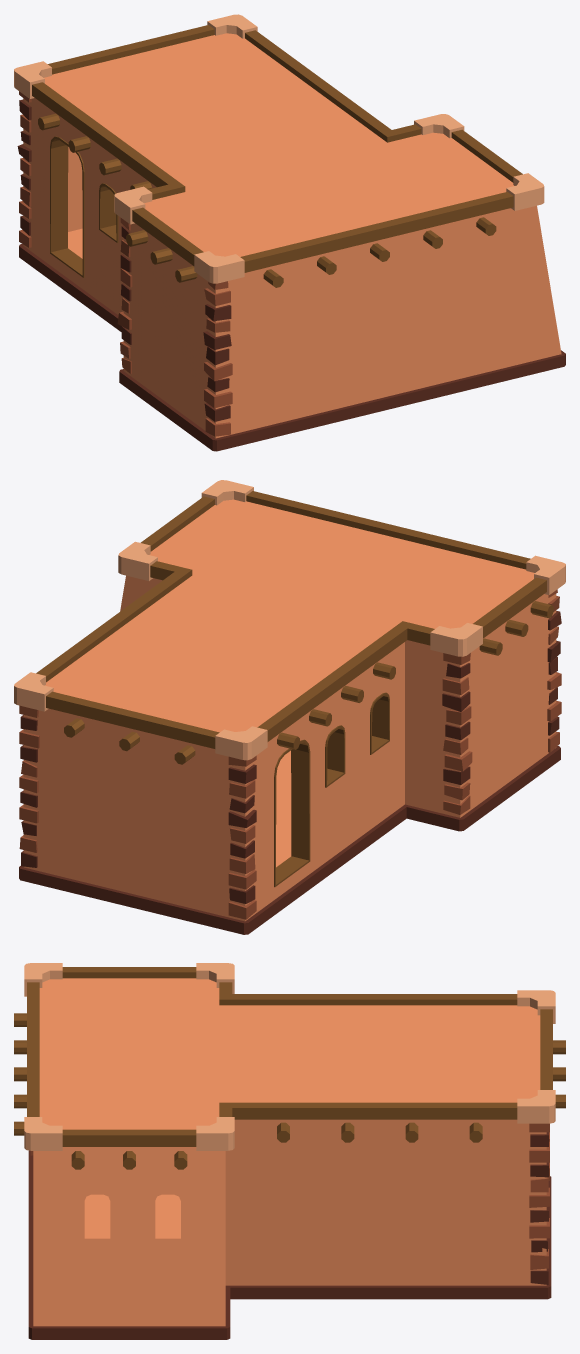
The model's file is House.001.fbx.
The picture shows the model from 3 angles, top to bottom: view 1: azimuth 30°, elevation 25°; view 2: azimuth 150°, elevation 25°; view 3: azimuth 270°, elevation 25°; orthographic projection. The views are drawn at different scales.
Visible parts, largest first — view 1: NewHouse.001; view 2: NewHouse.001; view 3: NewHouse.001.
Part boxes in pixels (<box>): NewHouse.001: <box>14,14,565,451</box>; NewHouse.001: <box>14,480,565,934</box>; NewHouse.001: <box>14,963,565,1339</box>.
Bounding box in the file's own units: 6.87 × 3.35 × 8.6.
